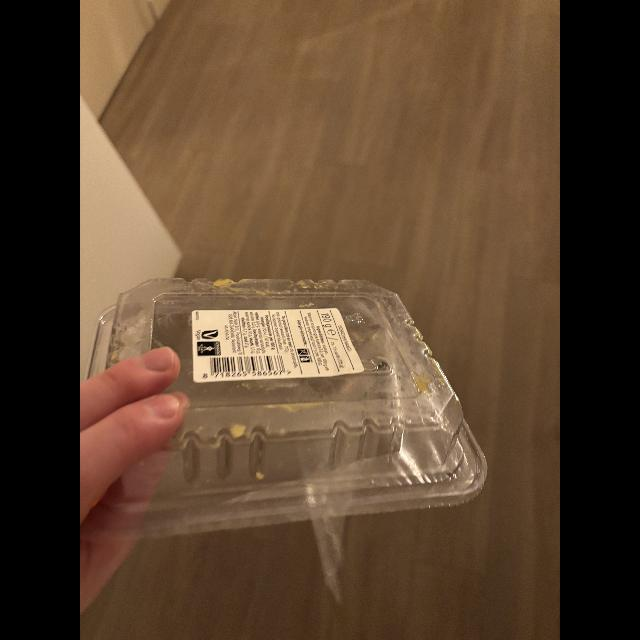Plastic: (91, 282, 495, 606)
